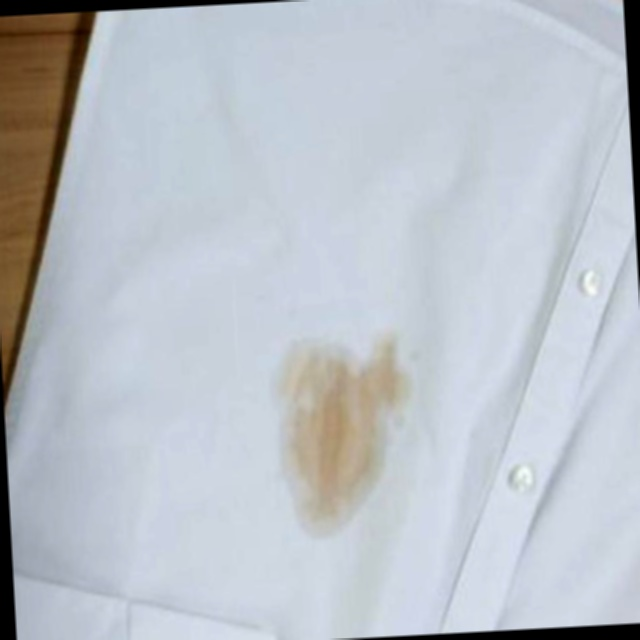coffee: (272, 332, 416, 539)
